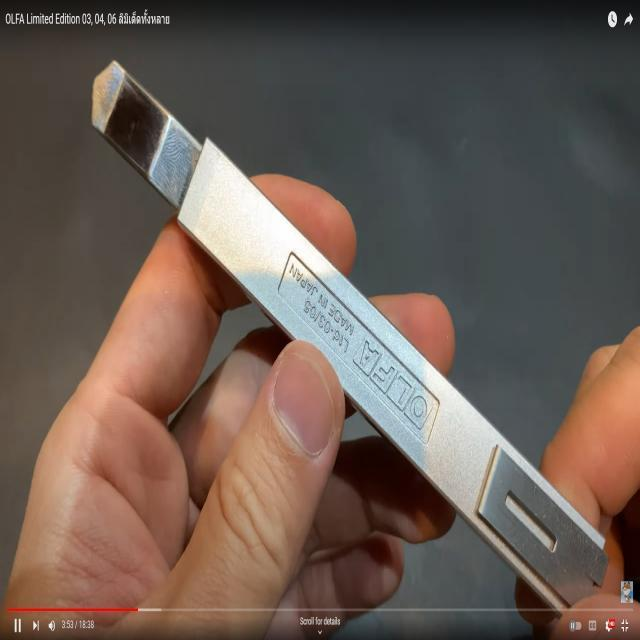cutter: (69, 52, 640, 569)
